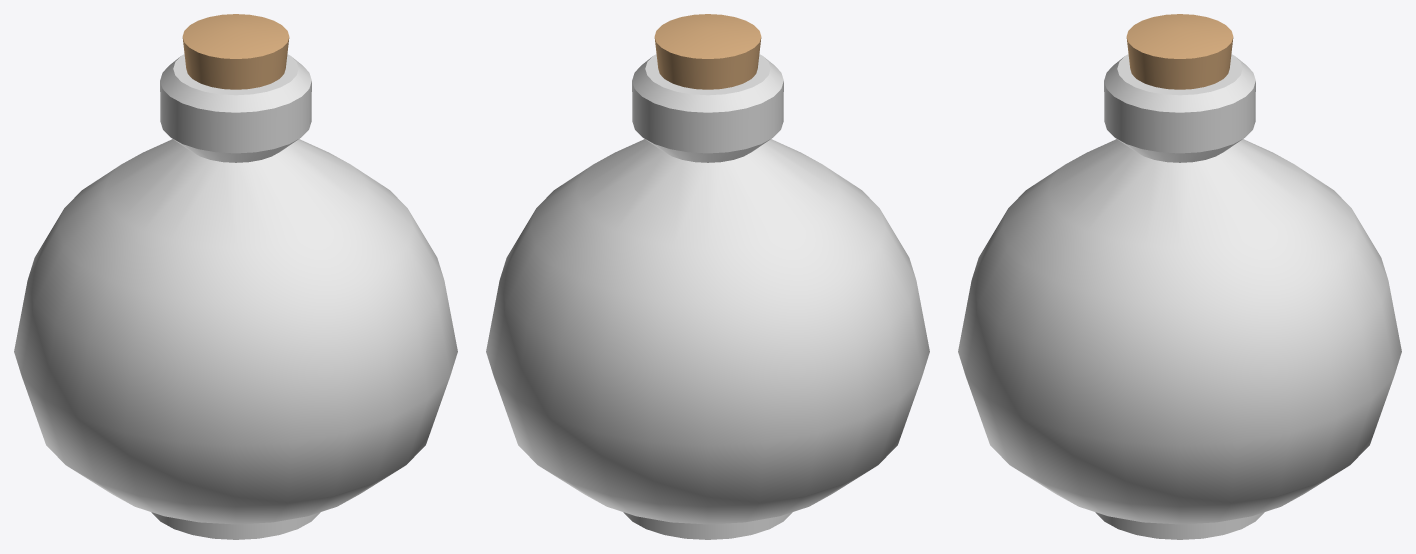
The model's file is potionLarge_red.gltf.glb.
3 renders of one model, left to right at view 1: azimuth 30°, elevation 25°; view 2: azimuth 150°, elevation 25°; view 3: azimuth 270°, elevation 25°, orthographic.
Parts seen in each view (by area): view 1: potionLarge_red; view 2: potionLarge_red; view 3: potionLarge_red.
Part boxes in pixels (left/top/right/bottom): potionLarge_red: left=14, top=14, right=457, bottom=539; potionLarge_red: left=486, top=14, right=929, bottom=539; potionLarge_red: left=958, top=14, right=1401, bottom=539.
Bounding box in the file's own units: 1 × 1.18 × 1.
